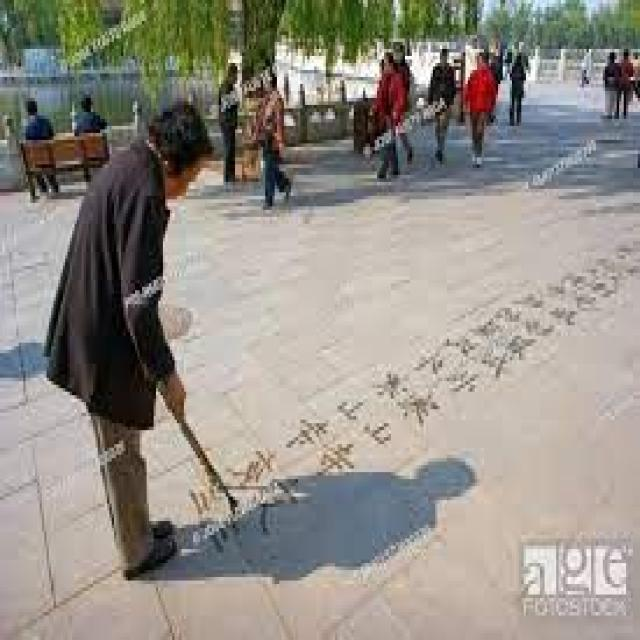idoso em pe: (58, 120, 210, 580)
